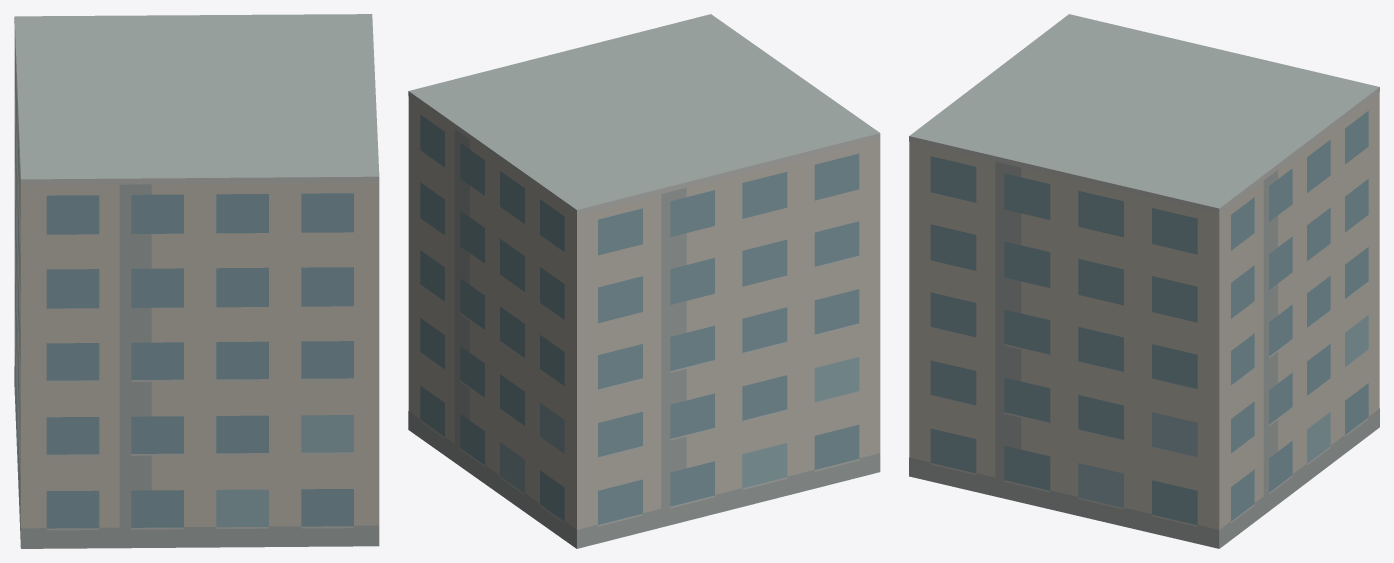
Rendered from survey-upis-32967206.glb.
3 renders of one model, left to right at view 1: azimuth 30°, elevation 25°; view 2: azimuth 150°, elevation 25°; view 3: azimuth 270°, elevation 25°, orthographic. The views are drawn at different scales.
Visible parts, largest first — view 1: survey-upis-32967206.tmp; view 2: survey-upis-32967206.tmp; view 3: survey-upis-32967206.tmp.
Boxes of the visible parts, left/top/right/bottom form: survey-upis-32967206.tmp: left=14, top=14, right=379, bottom=548; survey-upis-32967206.tmp: left=408, top=14, right=880, bottom=548; survey-upis-32967206.tmp: left=909, top=14, right=1379, bottom=548.
Size of the model in its own units: 18.71 by 15.25 by 19.12.
